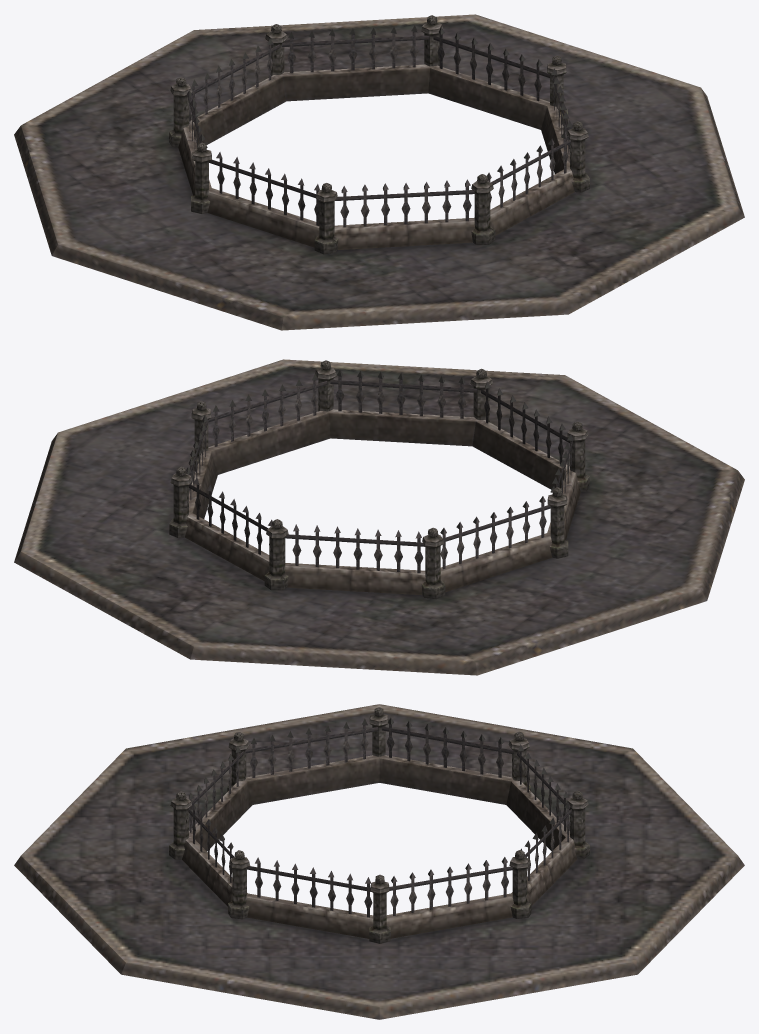
Rendered from SM_zhucheng_gongyuan01.FBX.
3 views of the same model, one above another, from view 1: azimuth 30°, elevation 25°; view 2: azimuth 150°, elevation 25°; view 3: azimuth 270°, elevation 25° (orthographic). The views are drawn at different scales.
Visible parts, largest first — view 1: SM_zhucheng_gongyuan01; view 2: SM_zhucheng_gongyuan01; view 3: SM_zhucheng_gongyuan01.
Part boxes in pixels (x1=…): SM_zhucheng_gongyuan01: x1=14, y1=14, x2=744, y2=330; SM_zhucheng_gongyuan01: x1=14, y1=359, x2=744, y2=675; SM_zhucheng_gongyuan01: x1=14, y1=704, x2=744, y2=1019.
Size of the model in its own units: 387 by 43.52 by 387.
